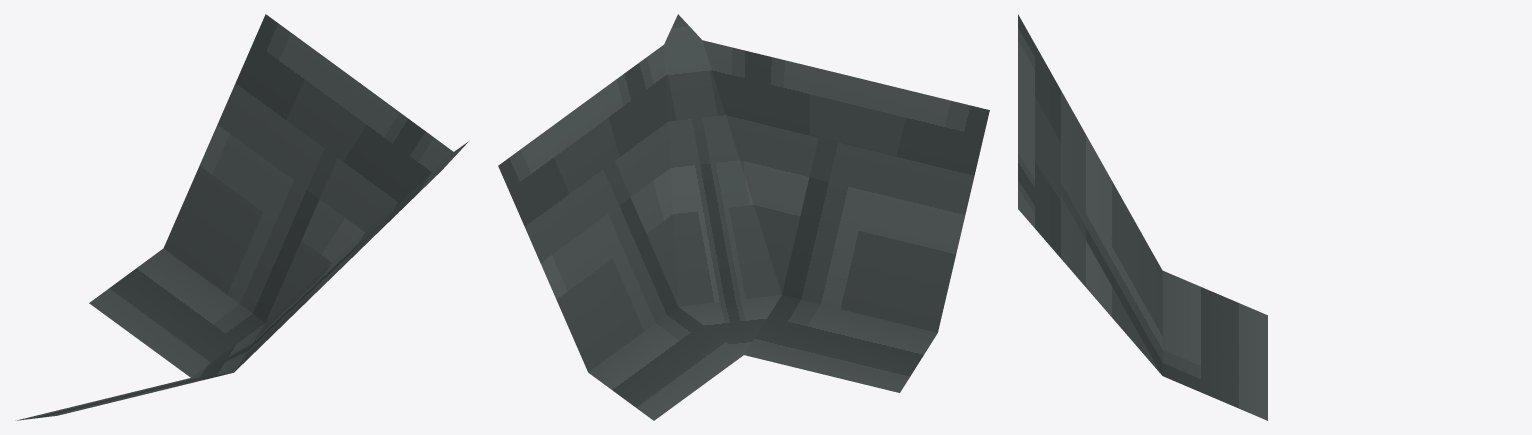
The picture shows the model from 3 angles, left to right: view 1: azimuth 30°, elevation 25°; view 2: azimuth 150°, elevation 25°; view 3: azimuth 270°, elevation 25°; orthographic projection. The views are drawn at different scales.
Size of the model in its own units: 1 by 0.7268 by 1.
2 materials, 2 textured.
